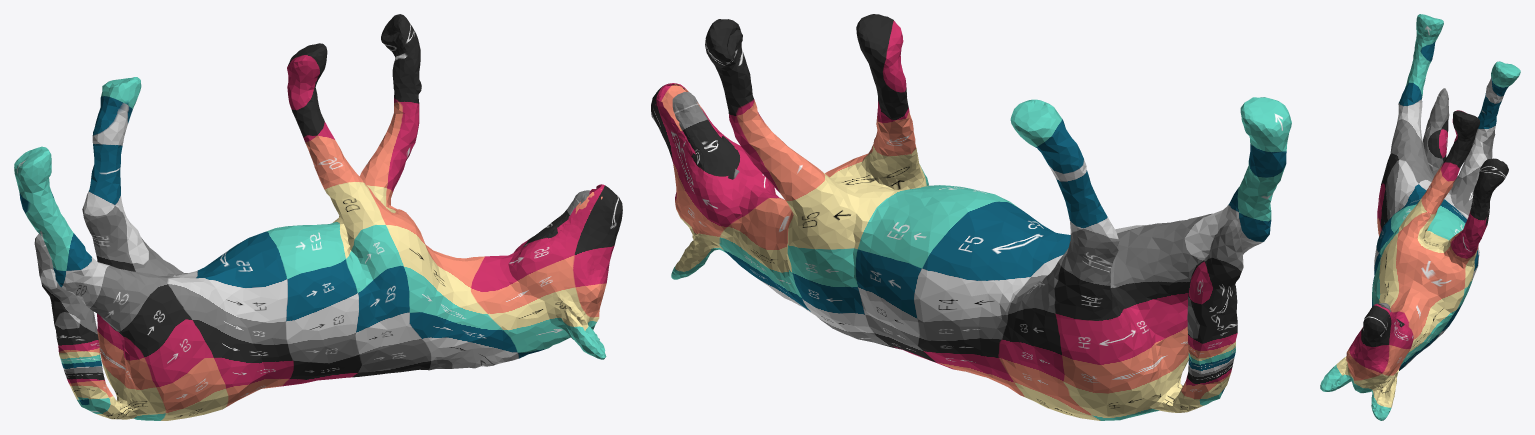
Rendered from hippo_01-horse_04.obj.
3 renders of one model, left to right at view 1: azimuth 30°, elevation 25°; view 2: azimuth 150°, elevation 25°; view 3: azimuth 270°, elevation 25°, orthographic. The views are drawn at different scales.
Visible parts, largest first — view 1: hippo_01-horse_04_export; view 2: hippo_01-horse_04_export; view 3: hippo_01-horse_04_export.
Part boxes in pixels (<box>): hippo_01-horse_04_export: <box>14,14,622,420</box>; hippo_01-horse_04_export: <box>651,14,1291,420</box>; hippo_01-horse_04_export: <box>1320,14,1520,420</box>.
Bounding box in the file's own units: 1.09 × 0.5769 × 0.4582.
